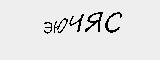И: (81, 16, 103, 36)
Л: (8, 20, 27, 39)
П: (131, 18, 157, 33)
Ю: (54, 19, 79, 37), (30, 22, 53, 38)
Ә: (104, 16, 129, 33)
